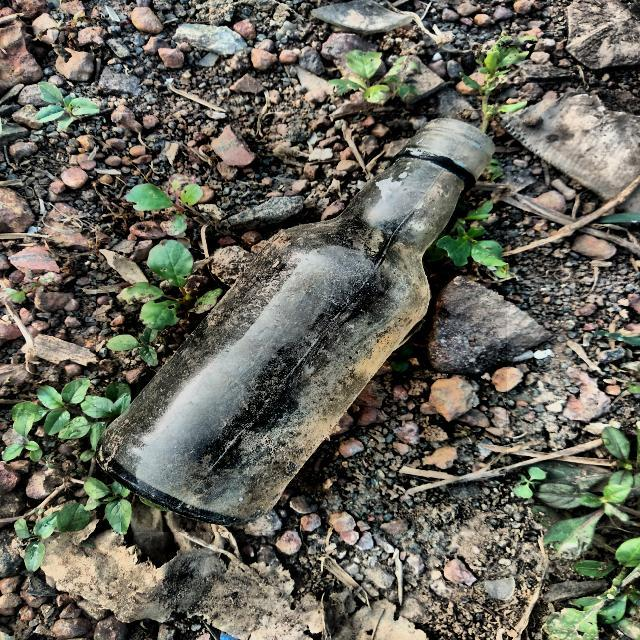anorganik: (97, 114, 507, 532)
